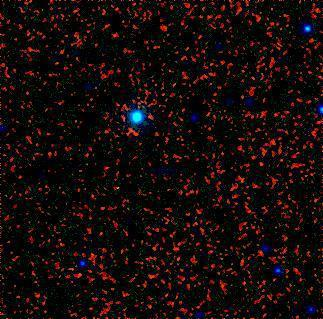star: (65, 245, 95, 275)
